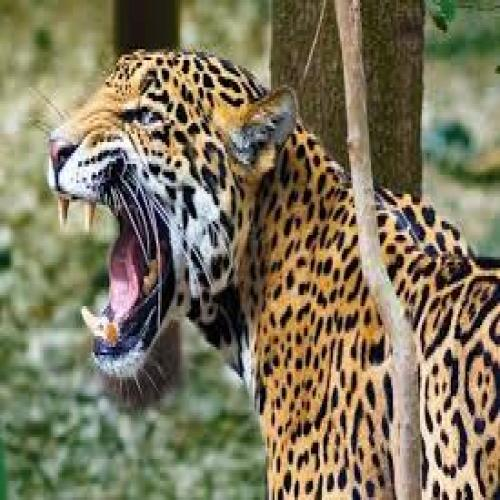jaguar_not-endangered: (48, 48, 496, 490)
